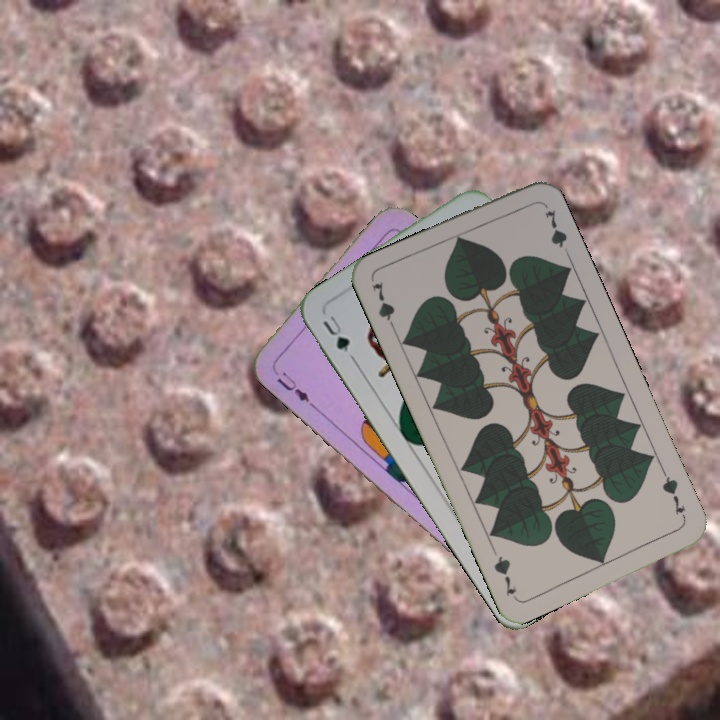EU: (268, 364, 316, 410)
G7: (368, 277, 399, 335), (658, 467, 689, 523)
GU: (318, 311, 357, 363)
